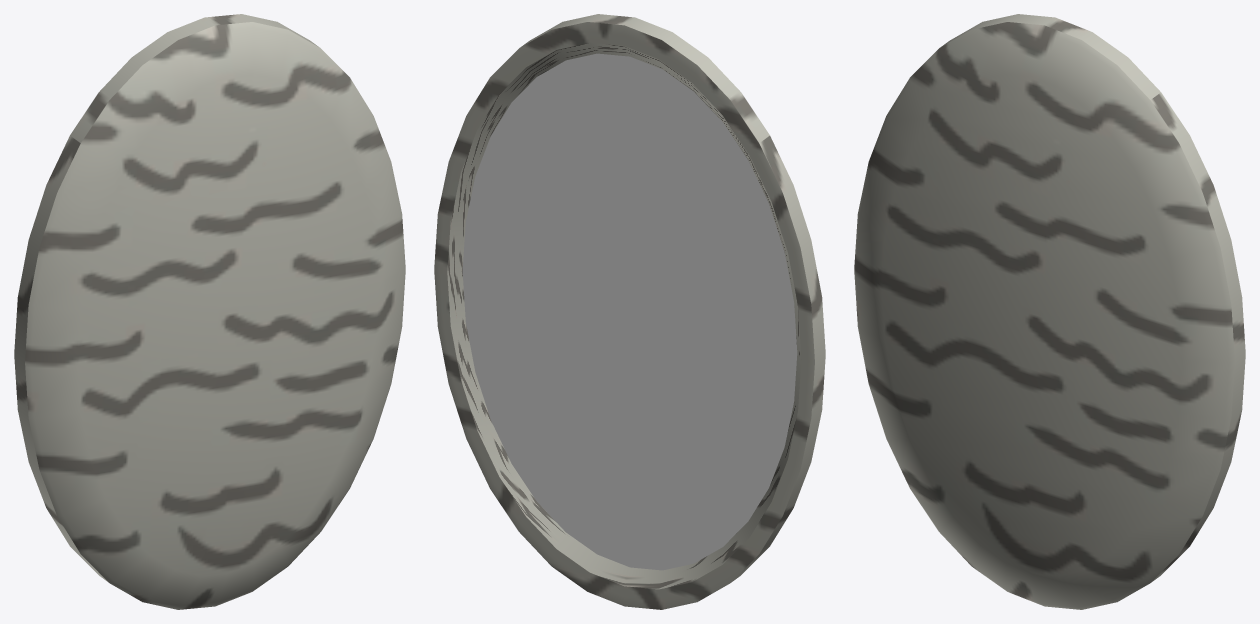
The model's file is item-cosmetic-mirror.glb.
The picture shows the model from 3 angles, left to right: view 1: azimuth 30°, elevation 25°; view 2: azimuth 150°, elevation 25°; view 3: azimuth 330°, elevation 25°; orthographic projection.
Bounding box in the file's own units: 0.5265 × 0.7676 × 0.0564.
Materials: 2 (1 with a texture image).
